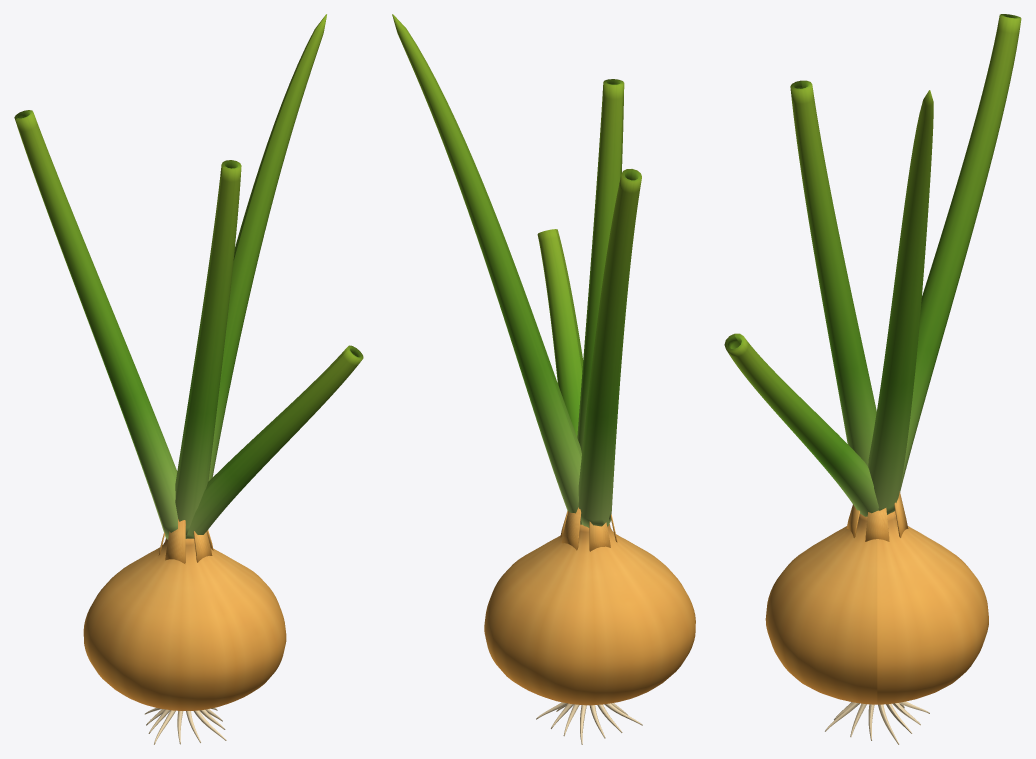
File: NP_Onion_BulbForming.fbx
The picture shows the model from 3 angles, left to right: view 1: azimuth 30°, elevation 25°; view 2: azimuth 150°, elevation 25°; view 3: azimuth 270°, elevation 25°; orthographic projection. The views are drawn at different scales.
Parts seen in each view (by area): view 1: NP_Onion_BulbForming; view 2: NP_Onion_BulbForming; view 3: NP_Onion_BulbForming.
Part boxes in pixels (x1=…): NP_Onion_BulbForming: x1=14, y1=14, x2=363, y2=744; NP_Onion_BulbForming: x1=392, y1=14, x2=695, y2=744; NP_Onion_BulbForming: x1=724, y1=14, x2=1021, y2=744.
Bounding box in the file's own units: 36.67 × 83.68 × 31.23.
